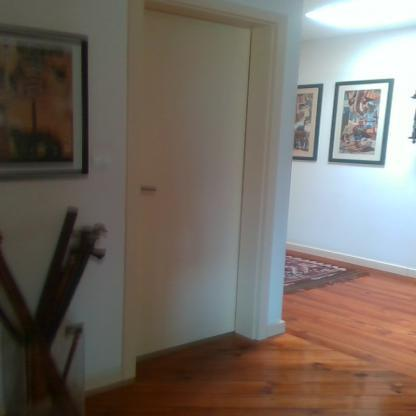door: (141, 9, 241, 364)
lever: (139, 186, 161, 193)
